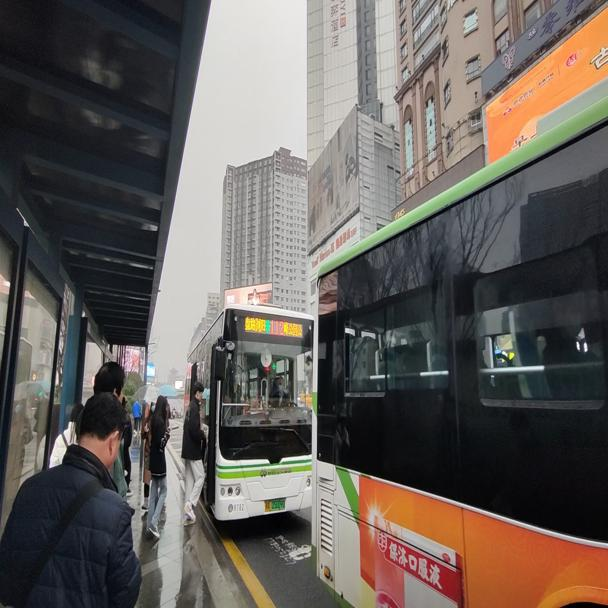bus: (310, 83, 608, 606), (182, 301, 313, 524)
screen: (270, 318, 283, 334)
